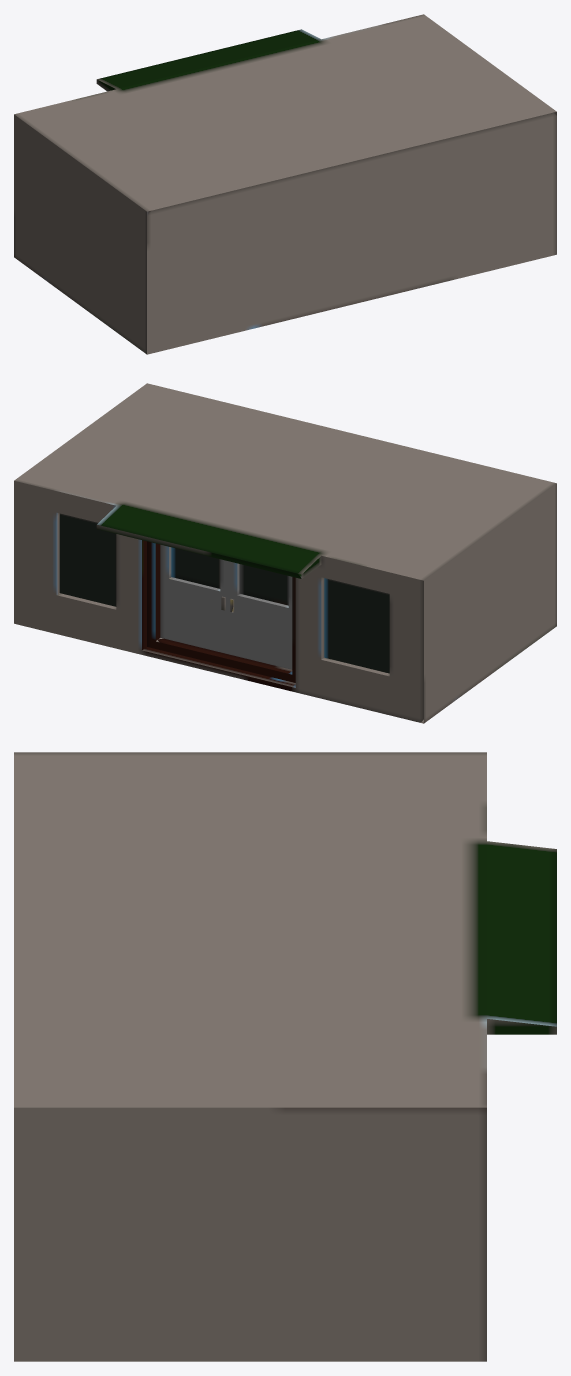
Rendered from ApartmentBuildingBottom.fbx.
3 renders of one model, top to bottom at view 1: azimuth 30°, elevation 25°; view 2: azimuth 150°, elevation 25°; view 3: azimuth 270°, elevation 25°, orthographic. The views are drawn at different scales.
Visible parts, largest first — view 1: base; view 2: base; view 3: base.
Part boxes in pixels (box(x1,y1,x2,y2)): base: box(14, 14, 556, 354); base: box(14, 383, 556, 723); base: box(14, 752, 556, 1361).
Size of the model in its own units: 300 by 100 by 194.
1 material, 1 textured.
